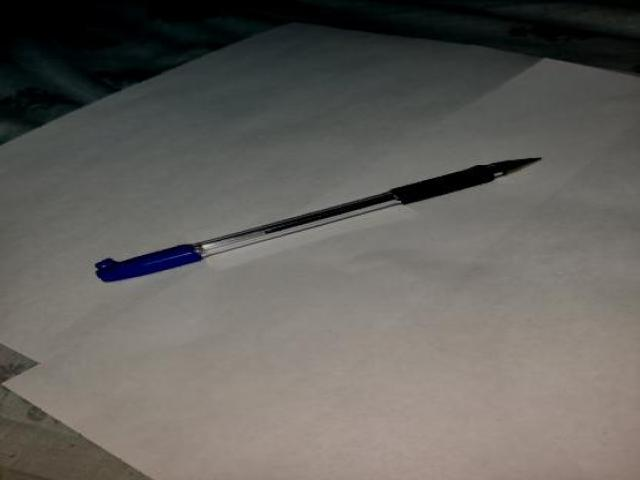PEN: (85, 128, 569, 294)
